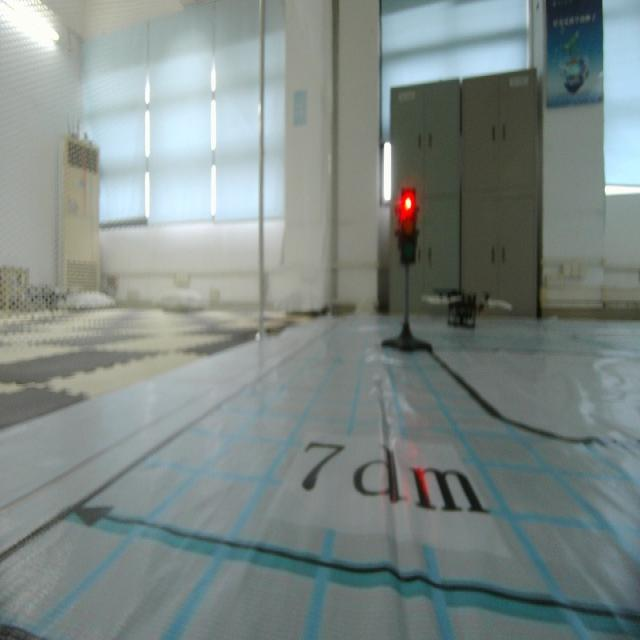red: (396, 189, 418, 270)
